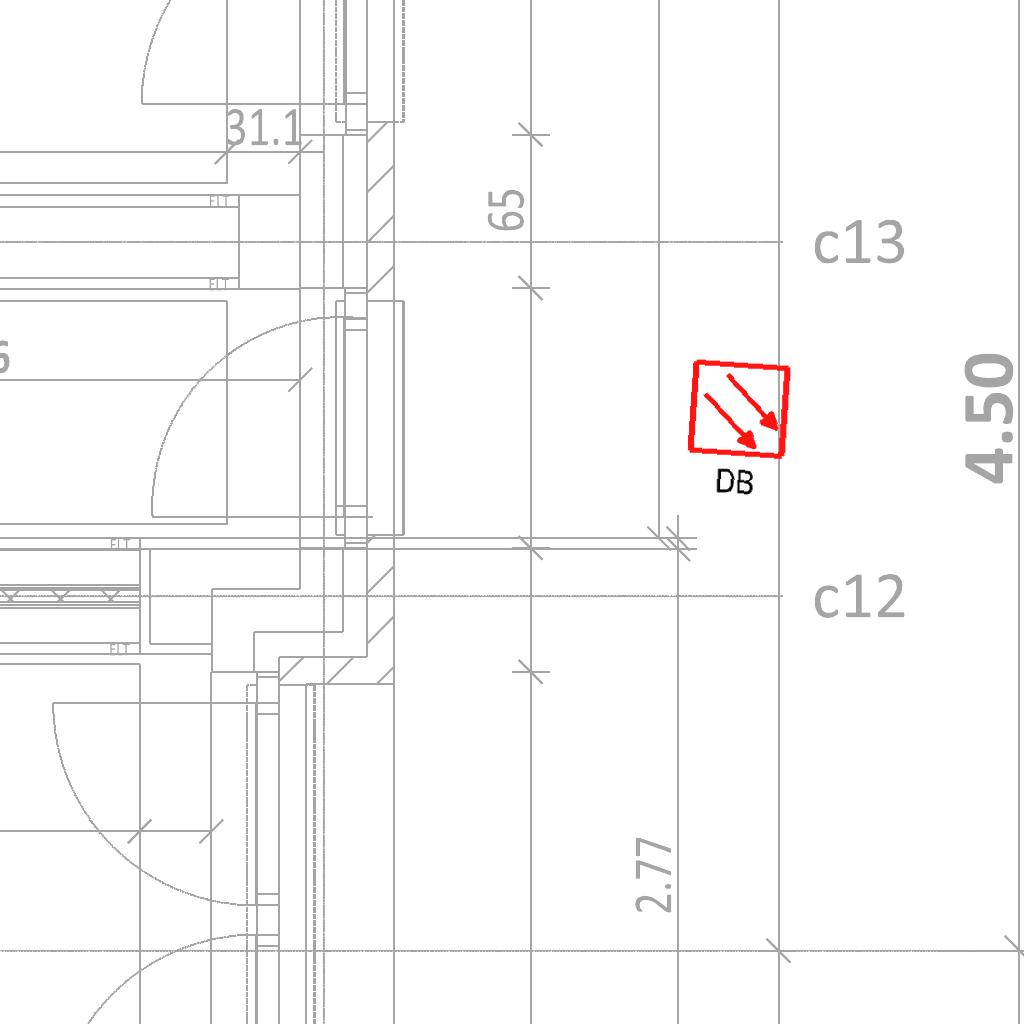DB_Melder_in_Doppelboden_mit_Revisionsoeffnung_mind_40_x_40_cm: (676, 351, 802, 508)
